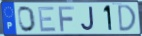1: (102, 5, 114, 33)
D: (117, 4, 138, 33)
E: (37, 5, 57, 33)
F: (57, 6, 76, 33)
J: (80, 6, 95, 32)
O: (17, 5, 37, 34)
